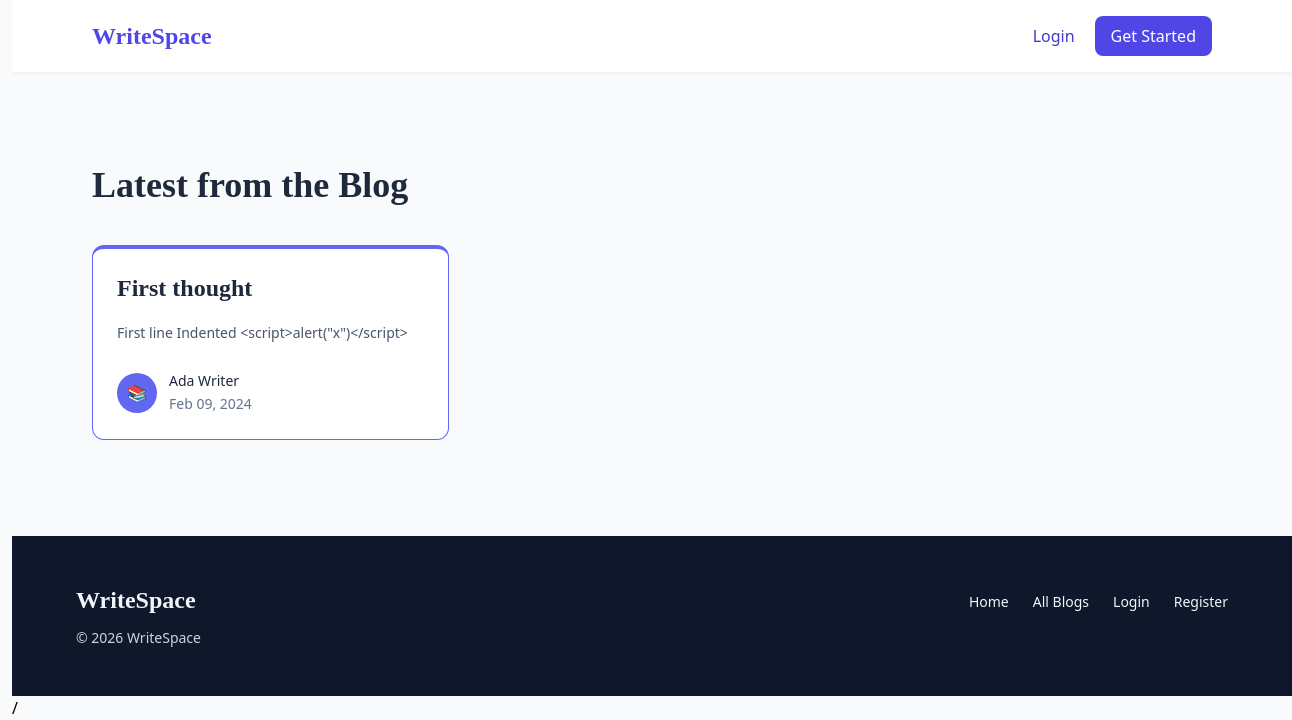
public landing › clicks the public footer Login link through the real route and guard
(page scrolled)
Click the link "Login" next to "All Blogs".
click(1131, 602)  # box left=1113, top=592, right=1150, bottom=611
(page scrolled)
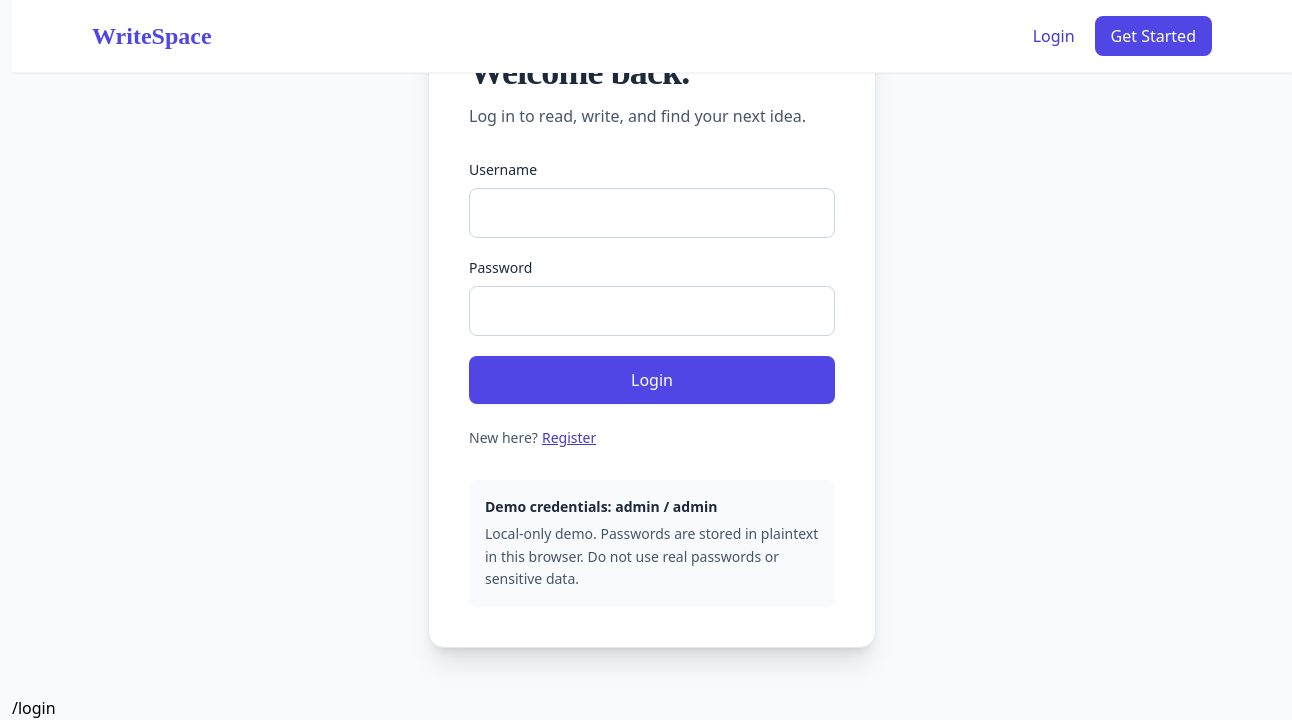
Now the text named "Current route" reads "/login", box left=12, top=697, right=56, bottom=719
Now the heading reads "Welcome back.", box left=469, top=52, right=689, bottom=92
